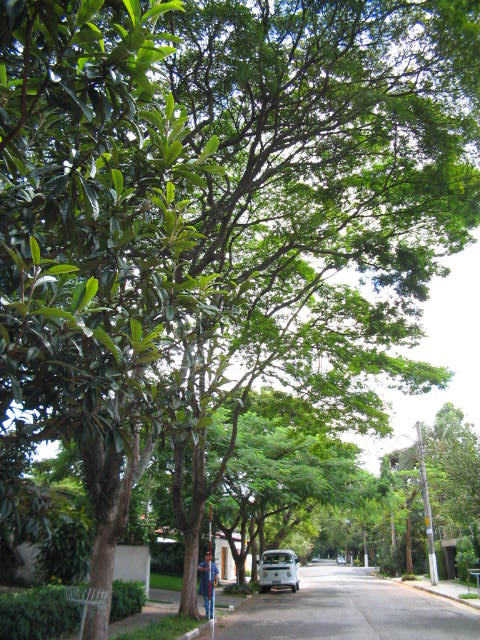crown: (165, 5, 478, 435)
stem: (69, 524, 122, 639), (173, 534, 206, 621)
stick: (202, 502, 216, 622)
tree: (163, 5, 479, 621)
